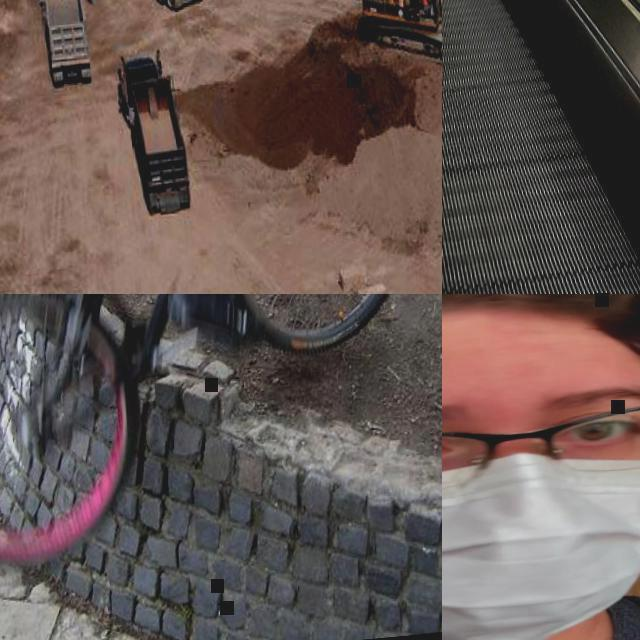machinery: (114, 45, 194, 218), (29, 0, 94, 87)
mask: (442, 447, 640, 640)
no_helmet: (442, 294, 640, 406)
person: (442, 294, 640, 640), (419, 0, 430, 8)
vest: (419, 0, 430, 7)
